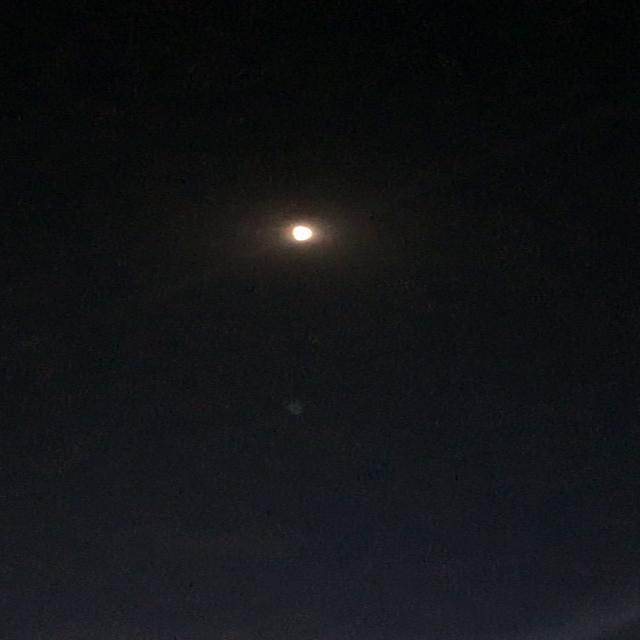moon: (280, 222, 326, 252)
